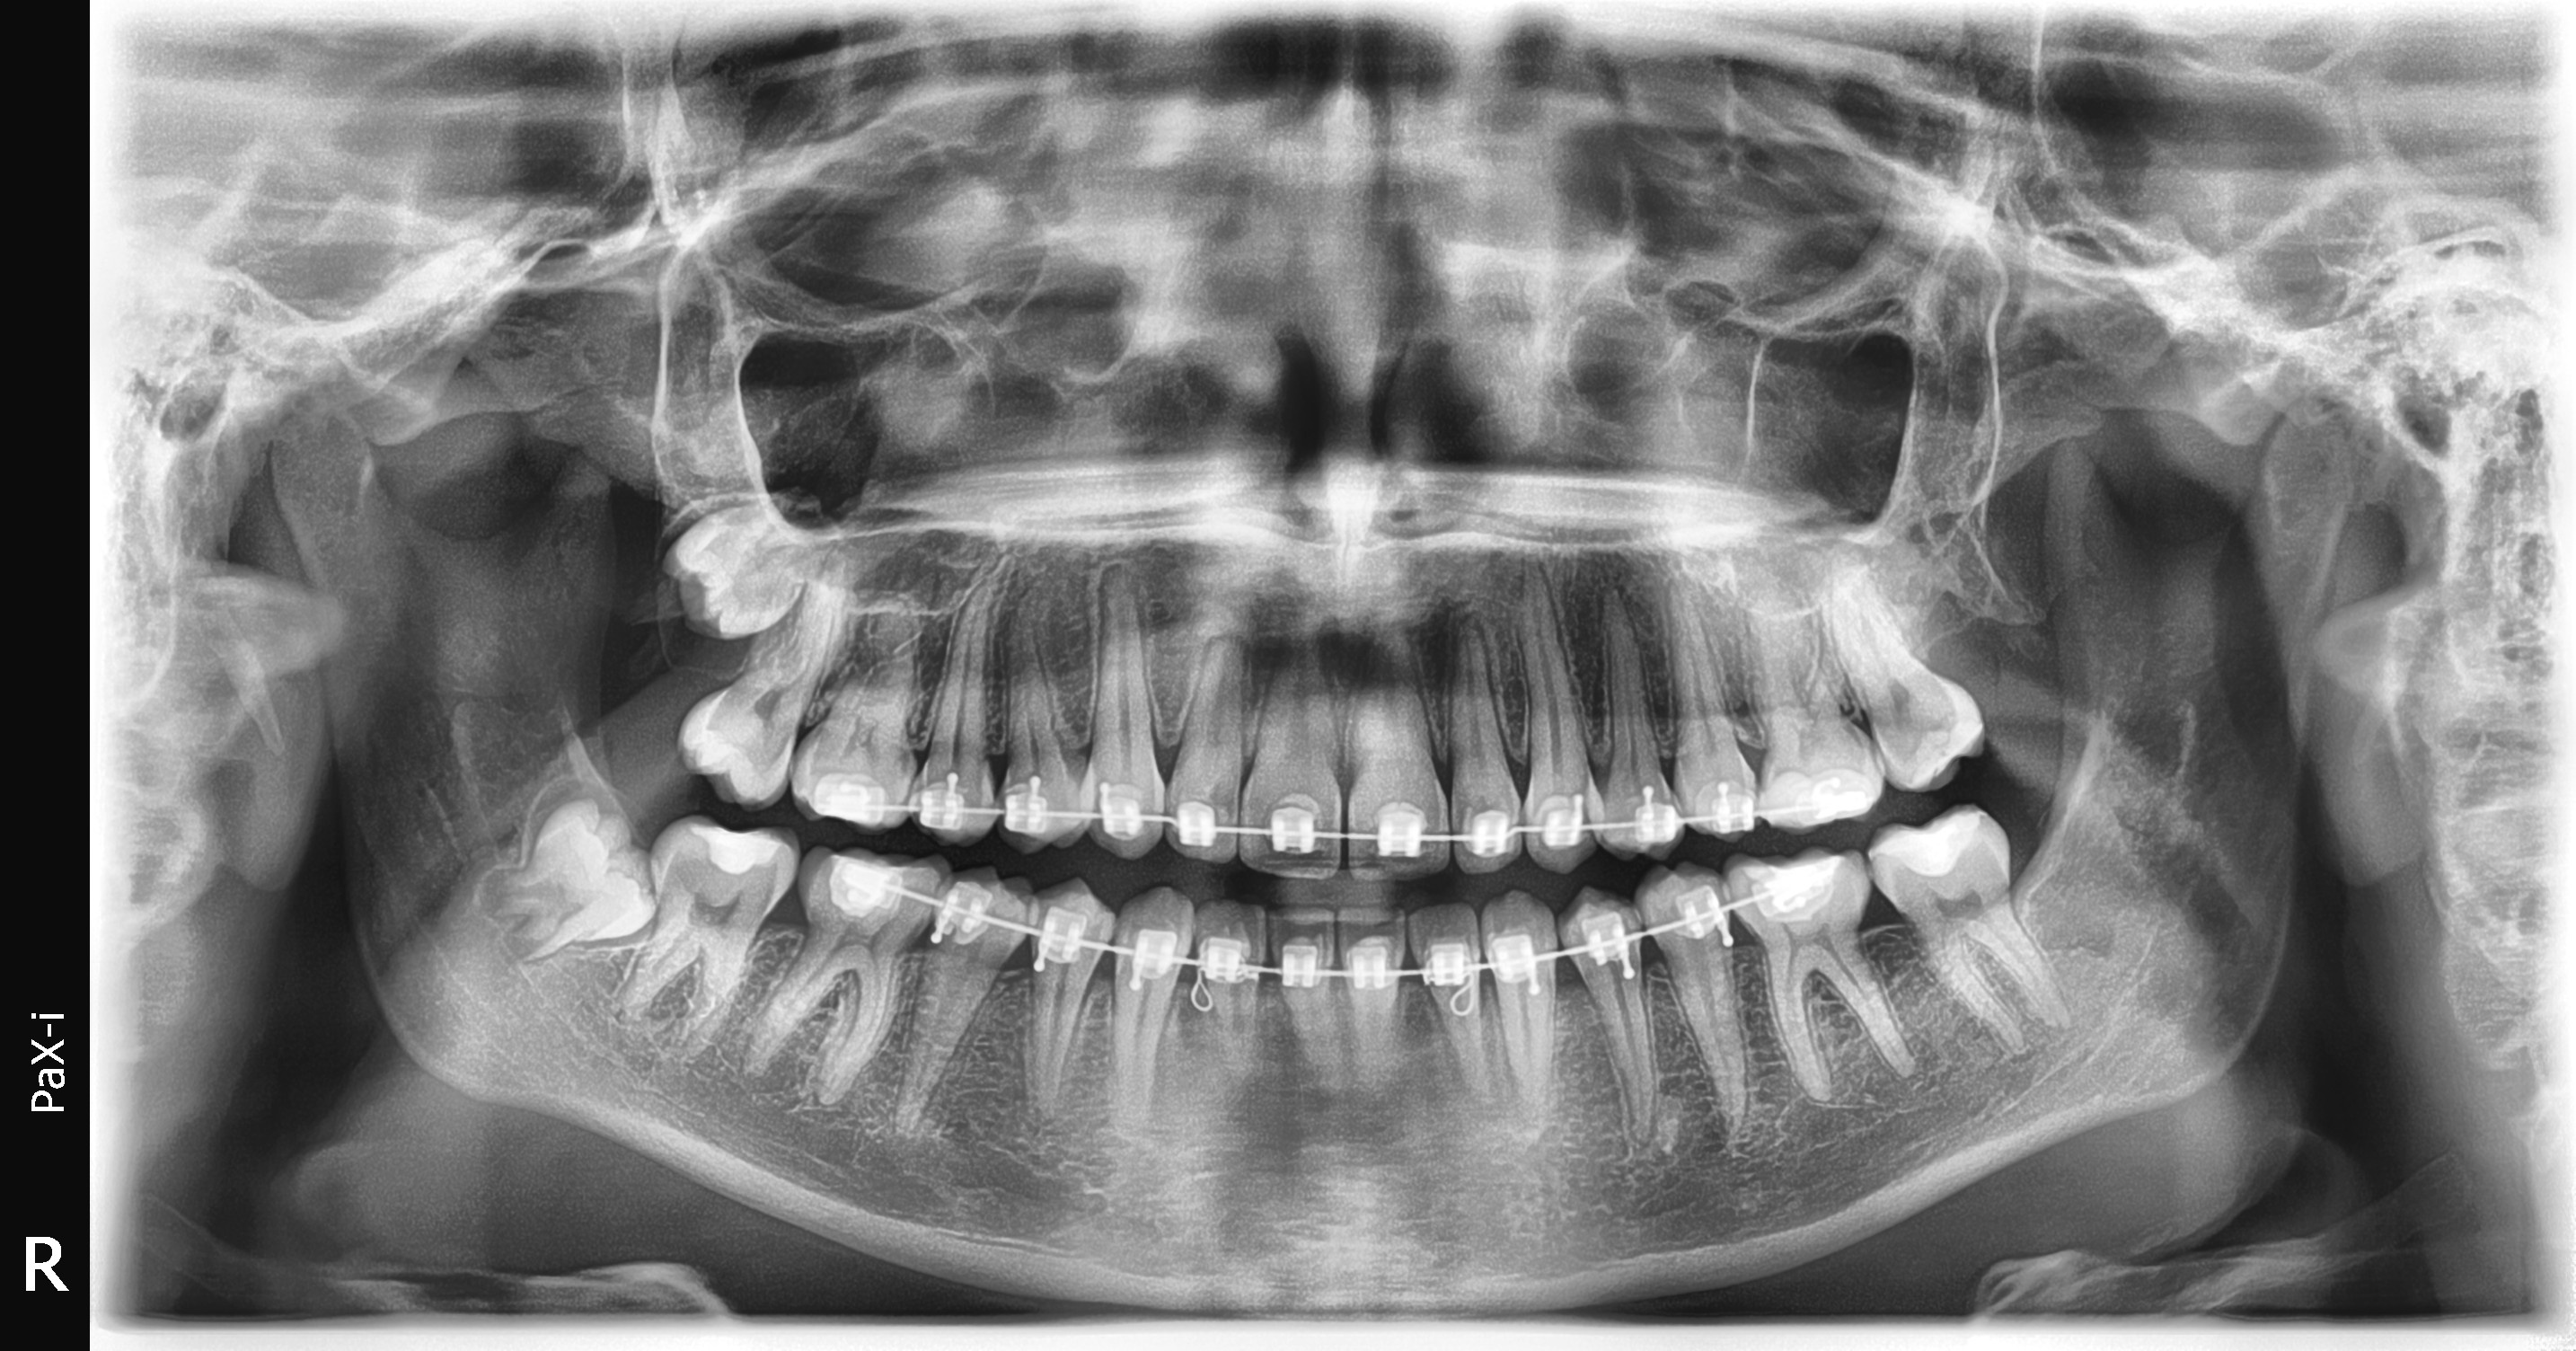IMT: (440, 758, 671, 983), (634, 472, 859, 653)
OBT: (1852, 796, 2009, 891), (666, 814, 802, 901), (1886, 683, 1980, 790)
ORD: (772, 836, 1888, 1017), (772, 729, 1872, 869)
